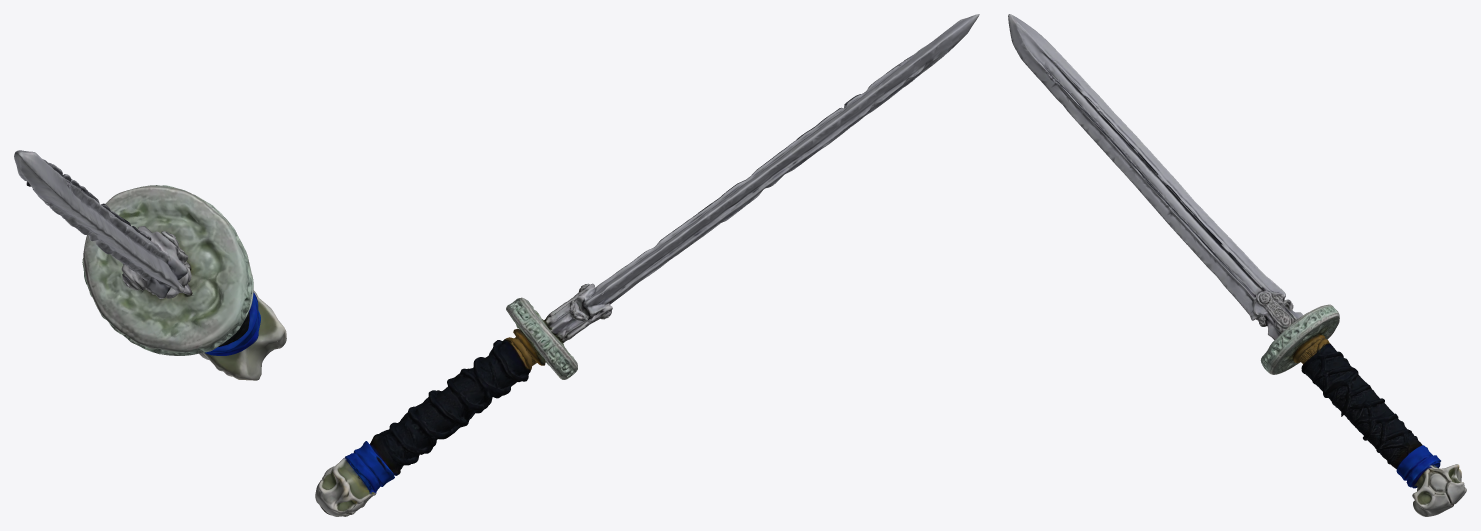
File: w-jian.glb
The picture shows the model from 3 angles, left to right: view 1: azimuth 30°, elevation 25°; view 2: azimuth 150°, elevation 25°; view 3: azimuth 270°, elevation 25°; orthographic projection. The views are drawn at different scales.
Visible parts, largest first — view 1: tripo_node_12be9f50-00f5-4ff5-9ec2-af69d92c0201; view 2: tripo_node_12be9f50-00f5-4ff5-9ec2-af69d92c0201; view 3: tripo_node_12be9f50-00f5-4ff5-9ec2-af69d92c0201.
Part boxes in pixels (x1,y1,x2,y2): tripo_node_12be9f50-00f5-4ff5-9ec2-af69d92c0201: [14, 150, 286, 380]; tripo_node_12be9f50-00f5-4ff5-9ec2-af69d92c0201: [315, 14, 979, 516]; tripo_node_12be9f50-00f5-4ff5-9ec2-af69d92c0201: [1008, 14, 1466, 516].
Size of the model in its own units: 0.841 by 0.8124 by 0.9807.
Materials: 1 (1 with a texture image).
